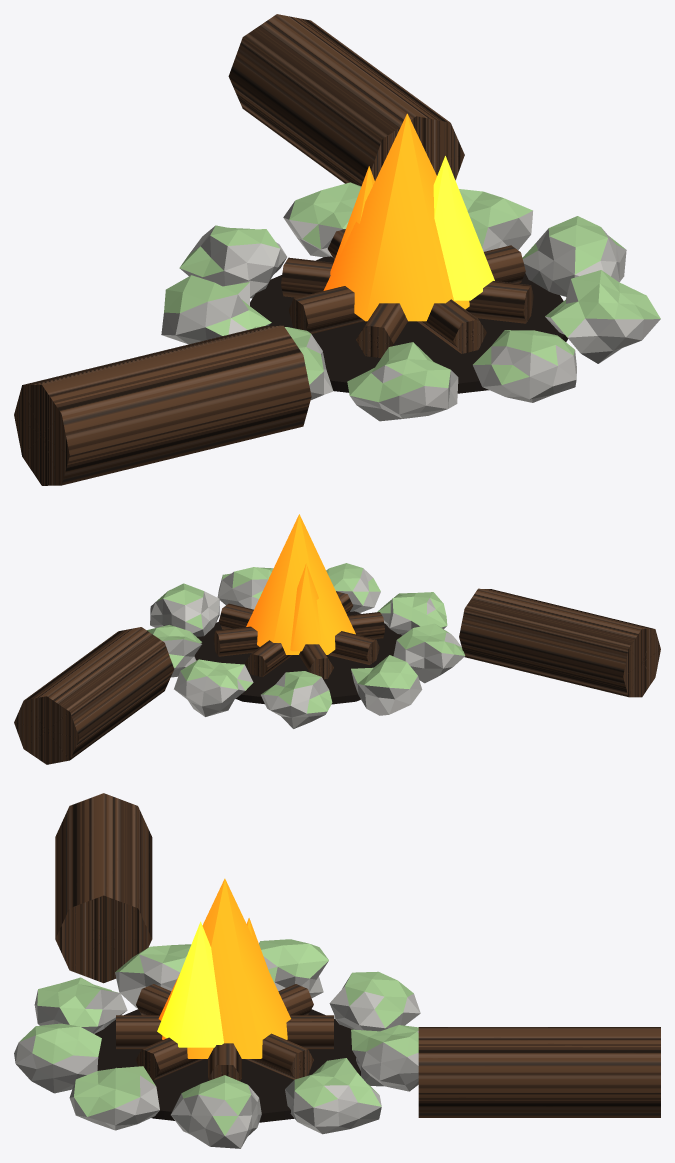
File: campfire.glb
The picture shows the model from 3 angles, top to bottom: view 1: azimuth 30°, elevation 25°; view 2: azimuth 150°, elevation 25°; view 3: azimuth 270°, elevation 25°; orthographic projection. The views are drawn at different scales.
Parts seen in each view (by area): view 1: campfire; view 2: campfire; view 3: campfire.
Boxes of the visible parts, left/top/right/bottom form: campfire: left=14, top=14, right=660, bottom=485; campfire: left=14, top=514, right=660, bottom=764; campfire: left=14, top=793, right=660, bottom=1148.
Bounding box in the file's own units: 2.71 × 0.8984 × 2.67.
Materials: 5 (1 with a texture image).
